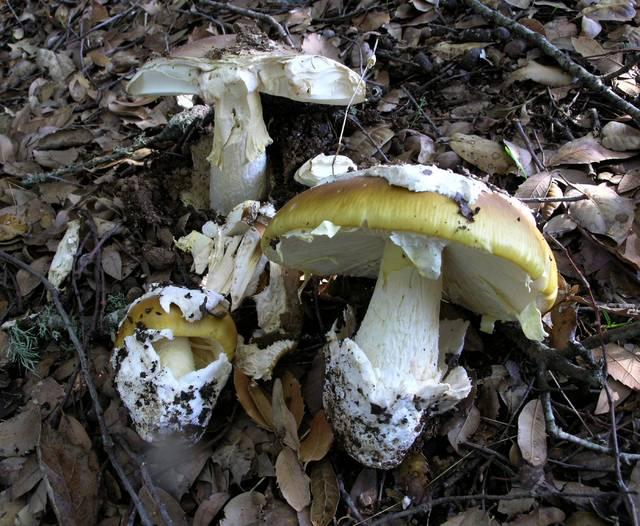Edible Mushroom: (259, 161, 559, 469), (124, 32, 367, 217), (108, 283, 238, 499)
